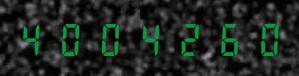four: (17, 20, 54, 56), (131, 20, 168, 56)
six: (207, 20, 244, 56)
two: (169, 20, 206, 56)
zero: (55, 20, 92, 56), (93, 20, 130, 56), (245, 20, 282, 56)
